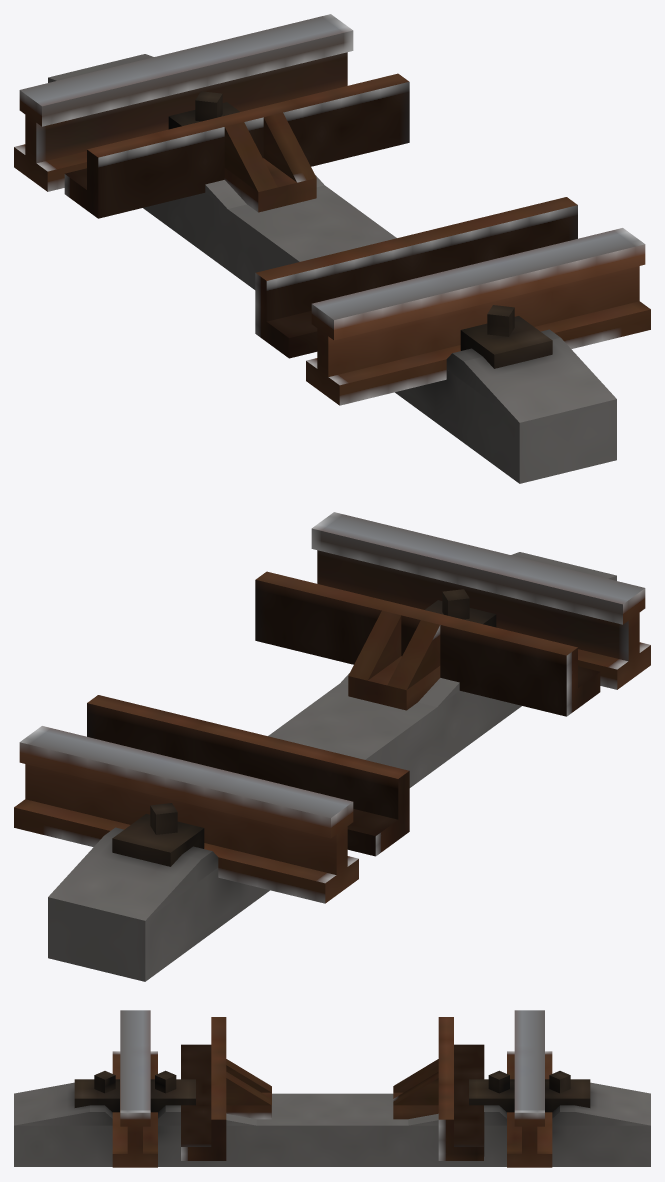
The model's file is mvp_ir_cncrt_ct_rail.obj.
The picture shows the model from 3 angles, top to bottom: view 1: azimuth 30°, elevation 25°; view 2: azimuth 150°, elevation 25°; view 3: azimuth 270°, elevation 25°; orthographic projection. The views are drawn at different scales.
Parts seen in each view (by area): view 1: RAIL_RIGHT_mvpRail, RAIL_LEFT_mvpRail, RAIL_BASE_mvpRail; view 2: RAIL_LEFT_mvpRail, RAIL_RIGHT_mvpRail, RAIL_BASE_mvpRail; view 3: RAIL_BASE_mvpRail, RAIL_RIGHT_mvpRail, RAIL_LEFT_mvpRail.
Boxes of the visible parts, x1,y1,x2,y2 form: RAIL_RIGHT_mvpRail: (14, 14, 409, 218); RAIL_LEFT_mvpRail: (255, 197, 650, 405); RAIL_BASE_mvpRail: (48, 54, 616, 483); RAIL_LEFT_mvpRail: (255, 512, 650, 716); RAIL_RIGHT_mvpRail: (14, 695, 409, 903); RAIL_BASE_mvpRail: (48, 552, 616, 981); RAIL_BASE_mvpRail: (14, 1070, 650, 1166); RAIL_RIGHT_mvpRail: (393, 1010, 552, 1167); RAIL_LEFT_mvpRail: (112, 1010, 271, 1167).
Bounding box in the file's own units: 1 × 0.4062 × 2.62.
Materials: 1 (1 with a texture image).
